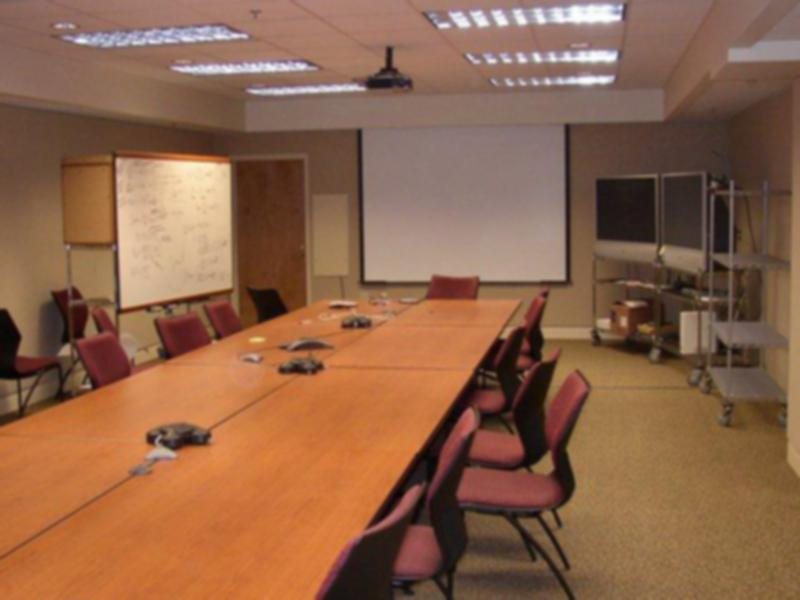Electrodomestico: (657, 170, 715, 284), (596, 165, 660, 266)
Puerta: (232, 160, 309, 309)
